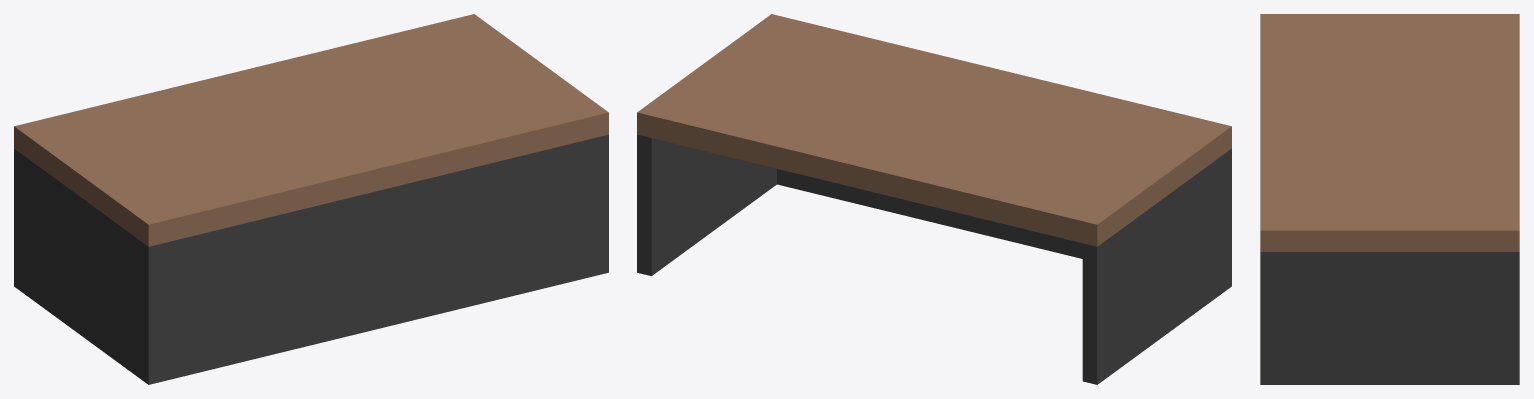
File: table2.fbx
The picture shows the model from 3 angles, left to right: view 1: azimuth 30°, elevation 25°; view 2: azimuth 150°, elevation 25°; view 3: azimuth 270°, elevation 25°; orthographic projection. The views are drawn at different scales.
Visible parts, largest first — view 1: Cube; view 2: Cube; view 3: Cube.
Boxes of the visible parts, x1,y1,x2,y2 form: Cube: (14,14,608,384); Cube: (637,14,1231,384); Cube: (1260,14,1519,384).
Bounding box in the file's own units: 395 × 131 × 200.
